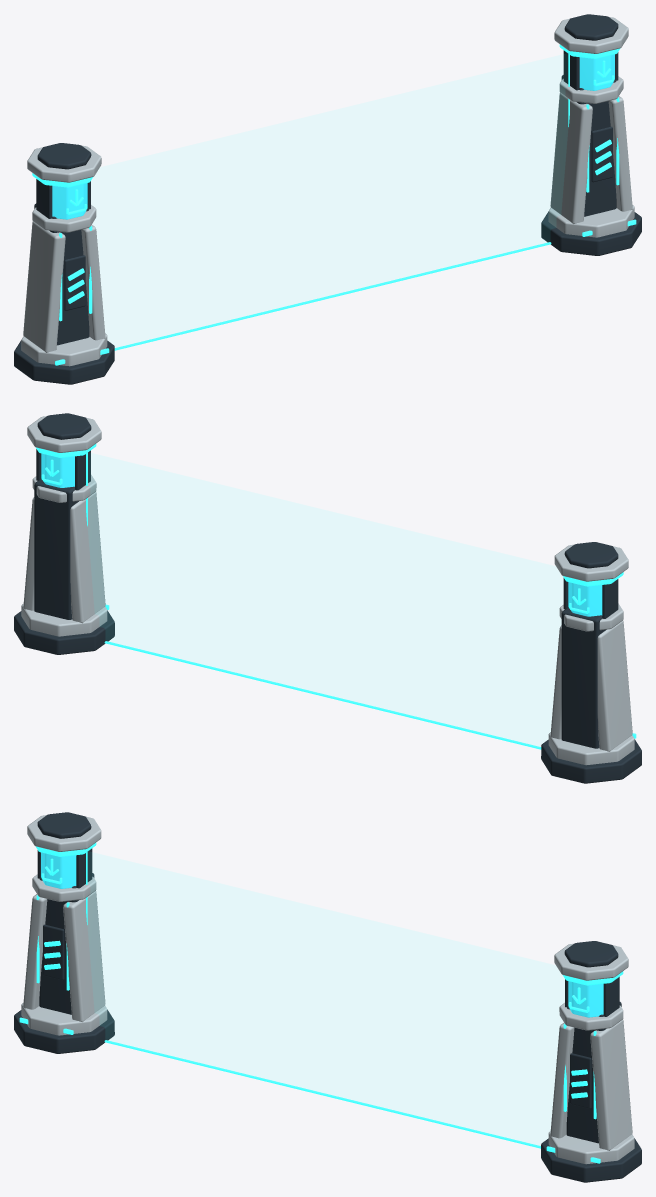
File: Checkpoint.glb
3 renders of one model, top to bottom at view 1: azimuth 30°, elevation 25°; view 2: azimuth 150°, elevation 25°; view 3: azimuth 330°, elevation 25°, orthographic.
Visible parts, largest first — view 1: LeftShoulder-1, RightShoulder-1, LeftFoot, RightFoot, LeftSpine, RightSpine, RightShoulder1, LeftShoulder1, RightBaseArmor, LeftBaseArmor, ThresholdLight, LeftCap (+10 smaller); view 2: LeftSpine, RightSpine, LeftShoulder-1, RightShoulder-1, LeftFoot, RightFoot, RightBaseArmor, LeftBaseArmor, ThresholdLight, LeftCap, RightCap, RightCrown (+8 smaller); view 3: RightShoulder1, LeftShoulder1, RightFoot, LeftFoot, LeftSpine, RightSpine, LeftShoulder-1, RightShoulder-1, RightBaseArmor, LeftBaseArmor, ThresholdLight, LeftCap (+10 smaller).
Boxes of the visible parts, box(x1,y1,x2,y2) form: LeftShoulder-1: box(23, 221, 65, 352); RightShoulder-1: box(550, 93, 592, 223); LeftFoot: box(14, 340, 114, 384); RightFoot: box(541, 211, 641, 255); LeftSpine: box(34, 203, 89, 345); RightSpine: box(561, 75, 616, 216); RightShoulder1: box(608, 96, 632, 211); LeftShoulder1: box(81, 224, 105, 340); RightBaseArmor: box(548, 204, 634, 237); LeftBaseArmor: box(21, 333, 107, 366); ThresholdLight: box(114, 242, 551, 350); LeftCap: box(27, 145, 101, 182); LeftSpine: box(561, 607, 606, 748); RightSpine: box(34, 478, 78, 619); LeftShoulder-1: box(597, 620, 632, 751); RightShoulder-1: box(70, 492, 105, 623); LeftFoot: box(541, 739, 641, 783); RightFoot: box(14, 610, 114, 654); RightBaseArmor: box(21, 604, 107, 636); LeftBaseArmor: box(548, 732, 634, 765); ThresholdLight: box(104, 641, 541, 749); LeftCap: box(554, 544, 628, 581); RightCap: box(27, 416, 101, 452); RightCrown: box(37, 413, 91, 439); RightShoulder1: box(590, 1019, 632, 1150); LeftShoulder1: box(63, 891, 105, 1021); RightFoot: box(541, 1138, 641, 1182); LeftFoot: box(14, 1009, 114, 1053); LeftSpine: box(39, 873, 94, 1014); RightSpine: box(566, 1002, 621, 1143); LeftShoulder-1: box(23, 894, 47, 1009); RightShoulder-1: box(550, 1023, 574, 1138); RightBaseArmor: box(548, 1131, 634, 1164); LeftBaseArmor: box(21, 1002, 107, 1035); ThresholdLight: box(104, 1040, 540, 1148); LeftCap: box(27, 815, 101, 851).
Size of the model in its own units: 9.47 by 3.13 by 1.27.
